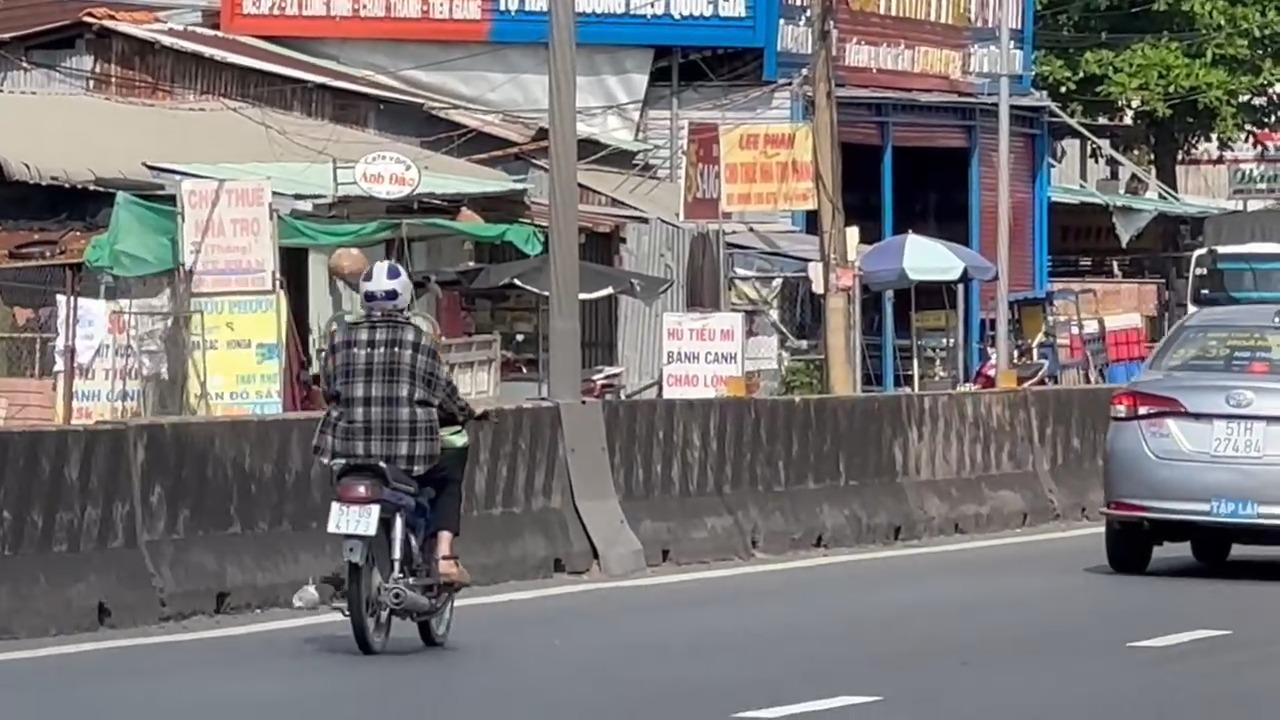bien_so: (1209, 417, 1265, 458), (325, 499, 380, 536)
